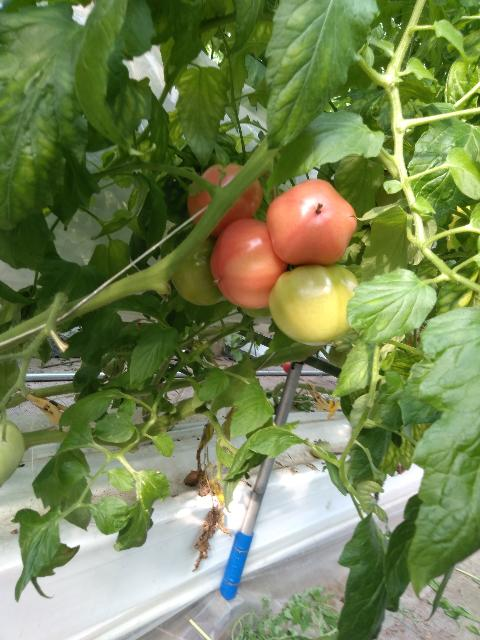b_green: (268, 264, 362, 346), (172, 235, 225, 306), (0, 419, 26, 488)
b_half_ripened: (266, 178, 357, 266), (209, 218, 288, 310), (187, 162, 263, 238)
